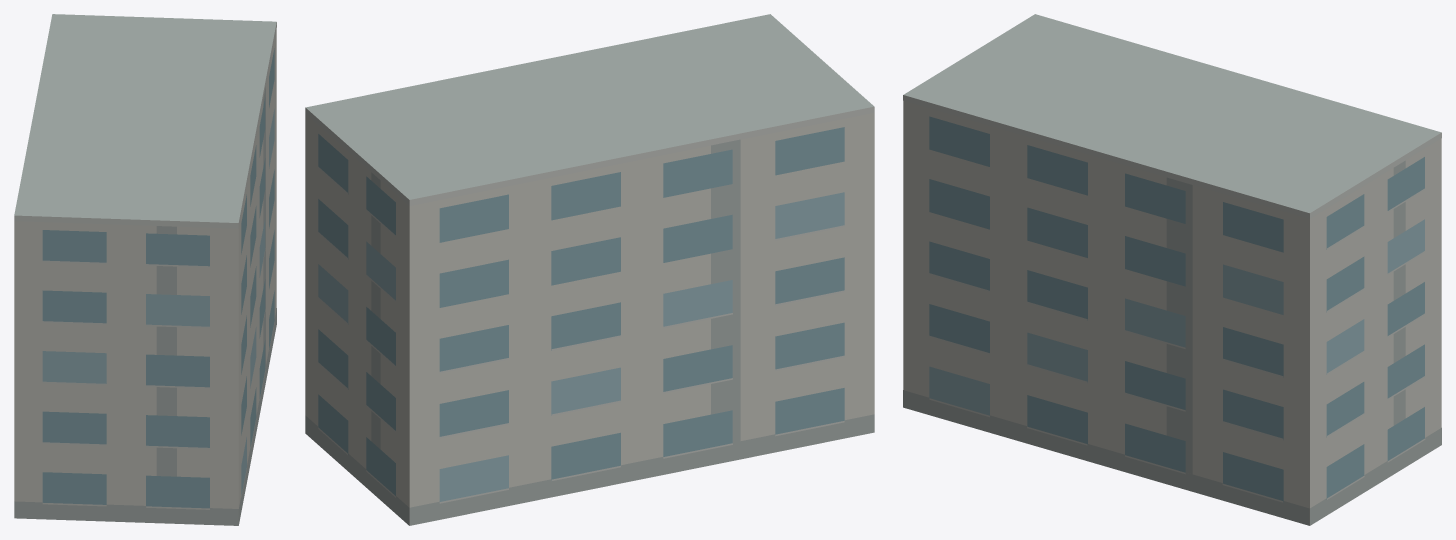
Rendered from survey-upis-32828555.glb.
3 renders of one model, left to right at view 1: azimuth 30°, elevation 25°; view 2: azimuth 150°, elevation 25°; view 3: azimuth 270°, elevation 25°, orthographic. The views are drawn at different scales.
Parts seen in each view (by area): view 1: survey-upis-32828555.tmp; view 2: survey-upis-32828555.tmp; view 3: survey-upis-32828555.tmp.
Boxes of the visible parts, x1=… form: survey-upis-32828555.tmp: x1=14, y1=14, x2=276, y2=525; survey-upis-32828555.tmp: x1=305, y1=14, x2=874, y2=525; survey-upis-32828555.tmp: x1=903, y1=14, x2=1441, y2=525.
Bounding box in the file's own units: 17.92 × 13.1 × 20.46.
